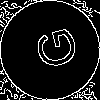G: (25, 25, 80, 74)
